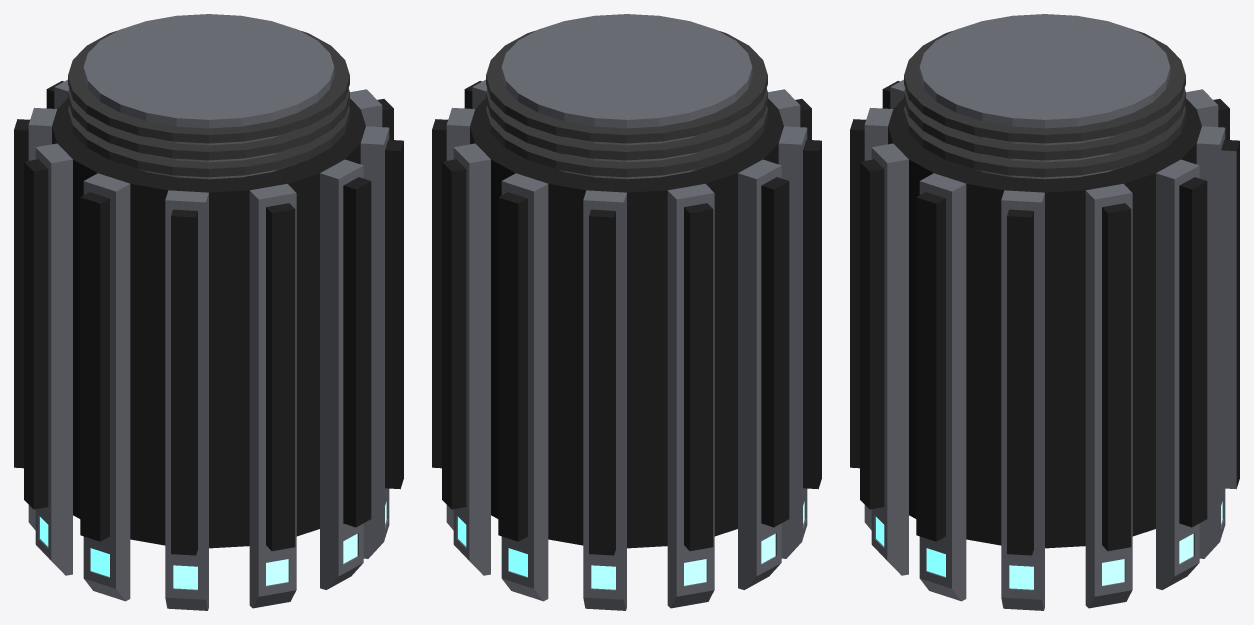
The model's file is HaloRoof.fbx.
3 renders of one model, left to right at view 1: azimuth 30°, elevation 25°; view 2: azimuth 150°, elevation 25°; view 3: azimuth 270°, elevation 25°, orthographic.
Visible parts, largest first — view 1: Cylinder; view 2: Cylinder; view 3: Cylinder.
Part boxes in pixels (x1,y1,x2,y2): Cylinder: [14, 14, 403, 610]; Cylinder: [432, 14, 821, 610]; Cylinder: [850, 14, 1239, 610].
Size of the model in its own units: 298 by 400 by 298.
2 materials, 1 textured.
